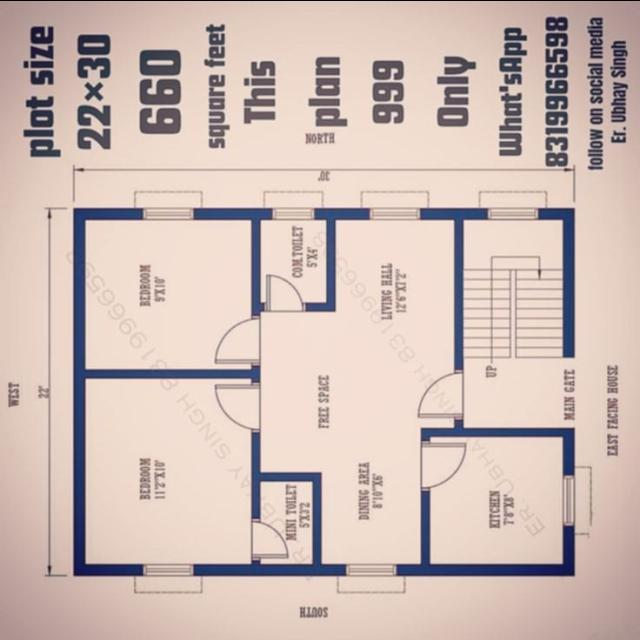column: (66, 359, 96, 388), (416, 553, 444, 582), (244, 554, 268, 586), (69, 200, 96, 228), (556, 552, 582, 580), (243, 360, 266, 388), (71, 552, 93, 581), (242, 202, 266, 226), (557, 202, 581, 226), (448, 204, 470, 228)
